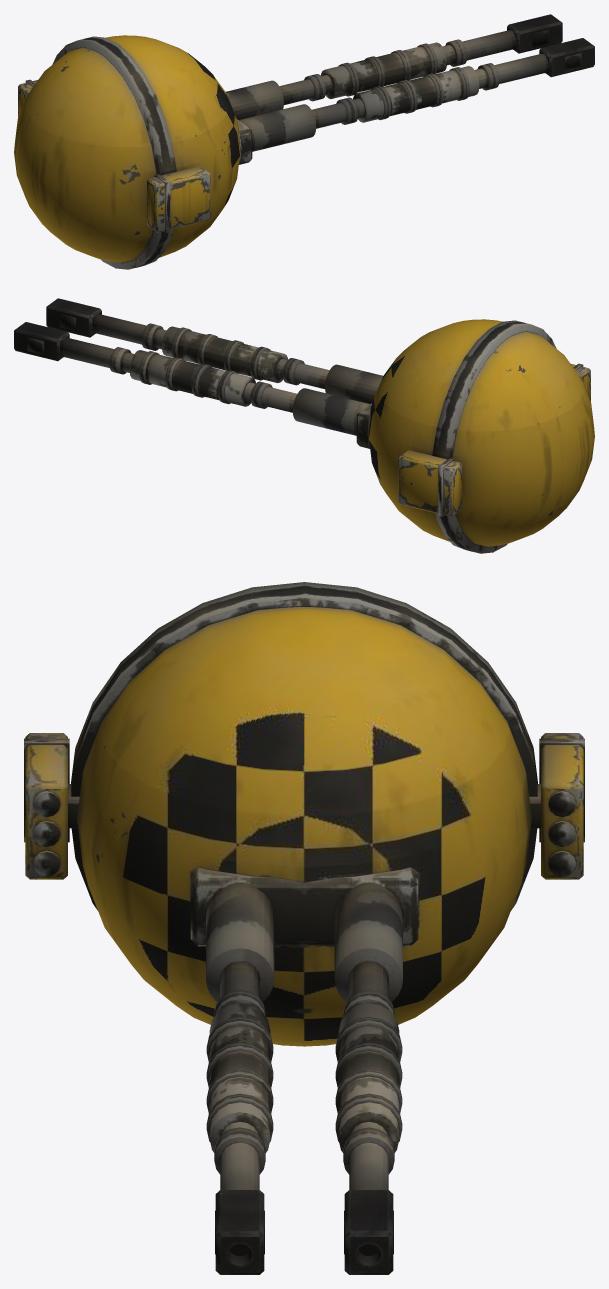
The model's file is turret_kit_tail_ball_t3_chequer.glb.
3 renders of one model, top to bottom at view 1: azimuth 30°, elevation 25°; view 2: azimuth 150°, elevation 25°; view 3: azimuth 270°, elevation 25°, orthographic. The views are drawn at different scales.
Parts seen in each view (by area): view 1: turret_tail_ball_t3, pods; view 2: turret_tail_ball_t3, pods; view 3: turret_tail_ball_t3, pods.
Part boxes in pixels (<box>): turret_tail_ball_t3: <box>14,14,594,269</box>; pods: <box>18,79,210,232</box>; turret_tail_ball_t3: <box>14,298,594,553</box>; pods: <box>398,363,590,516</box>; turret_tail_ball_t3: <box>71,582,537,1274</box>; pods: <box>24,733,584,879</box>.
Bounding box in the file's own units: 1.66 × 0.62 × 0.7402.
2 materials, 2 textured.
